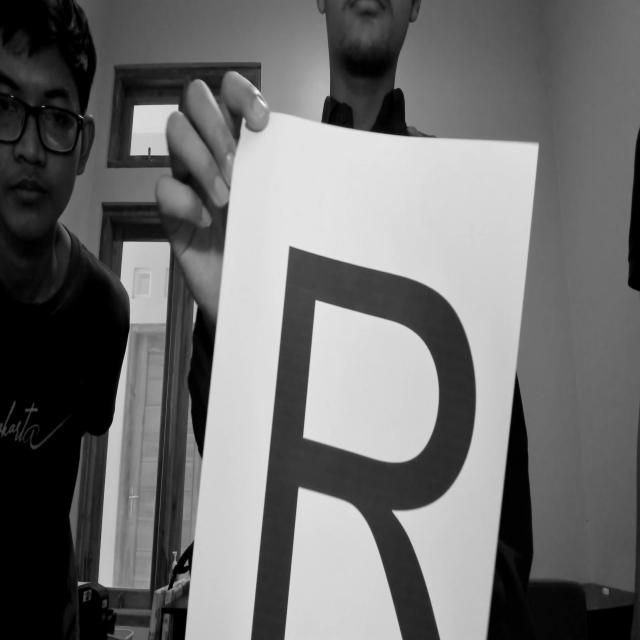r: (242, 225, 502, 640)
